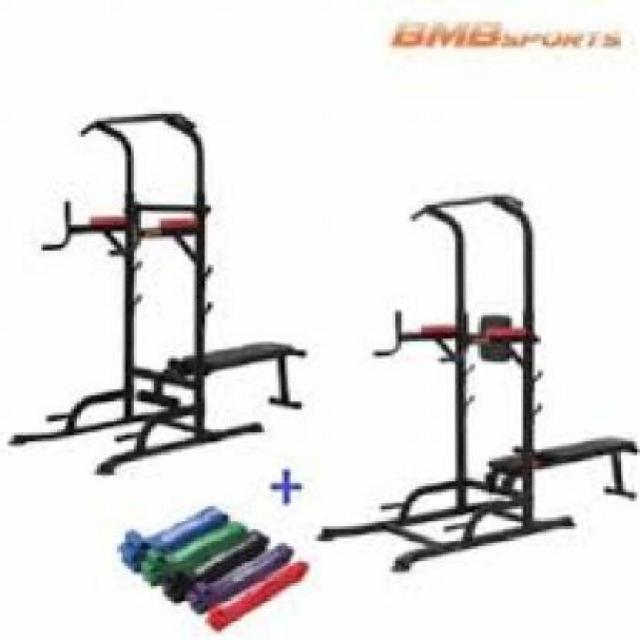chinning dipping: (8, 111, 263, 474)
